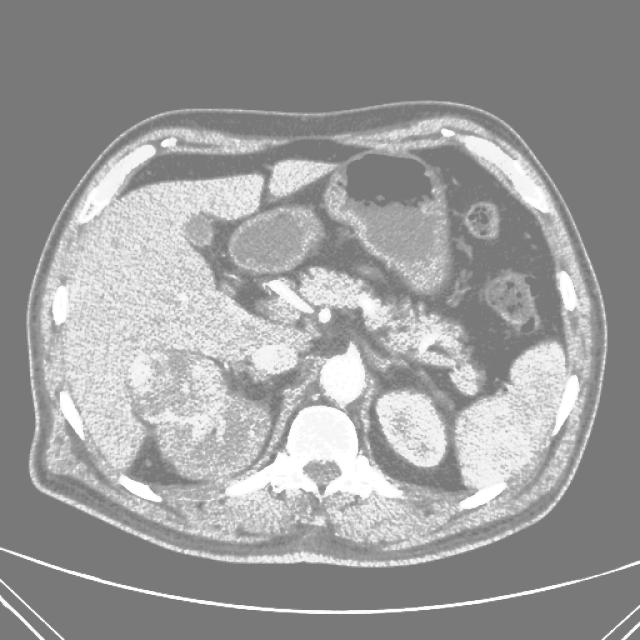TUMOR: (93, 214, 526, 475)
